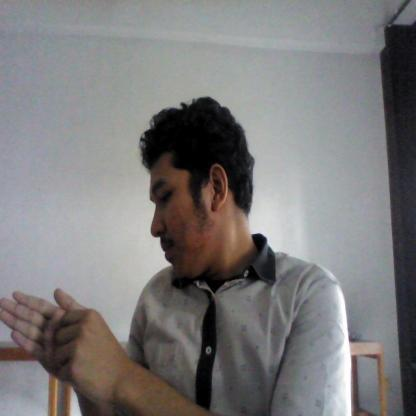Nama: (0, 272, 120, 389)
